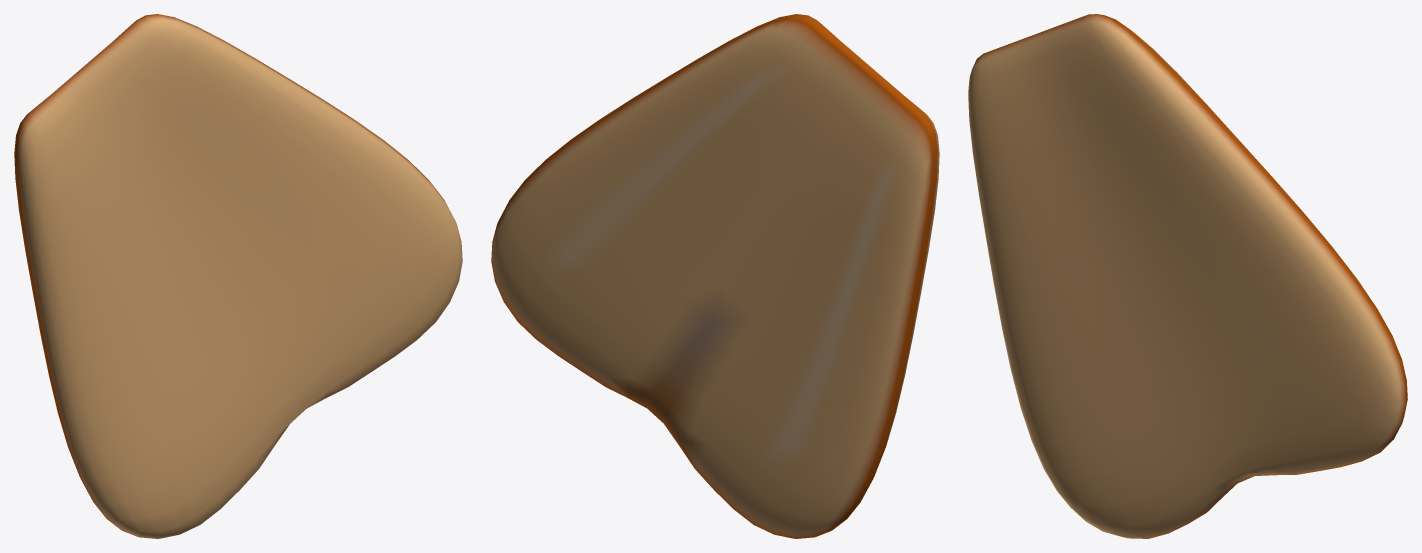
Rendered from Enemy Puffer Left Fin.fbx.
The picture shows the model from 3 angles, left to right: view 1: azimuth 30°, elevation 25°; view 2: azimuth 150°, elevation 25°; view 3: azimuth 330°, elevation 25°; orthographic projection.
Parts seen in each view (by area): view 1: polySurface117; view 2: polySurface117; view 3: polySurface117.
Boxes of the visible parts, box(x1,y1,x2,y2) form: polySurface117: box(14, 14, 462, 538); polySurface117: box(491, 14, 939, 538); polySurface117: box(968, 14, 1407, 538).
Bounding box in the file's own units: 40.51 × 45.88 × 3.71.
